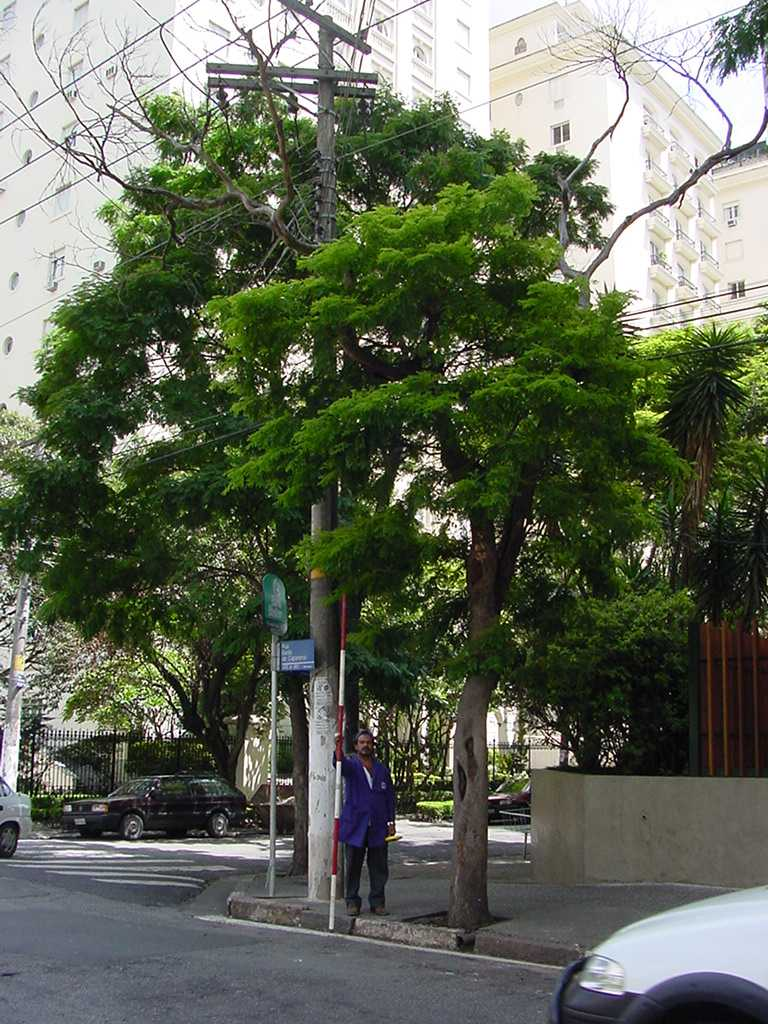crown: (204, 162, 699, 670)
stem: (426, 618, 538, 927)
stick: (320, 592, 353, 932)
tree: (204, 164, 699, 928)
